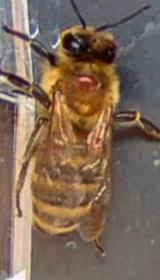varroa_mite: (68, 68, 114, 96)
